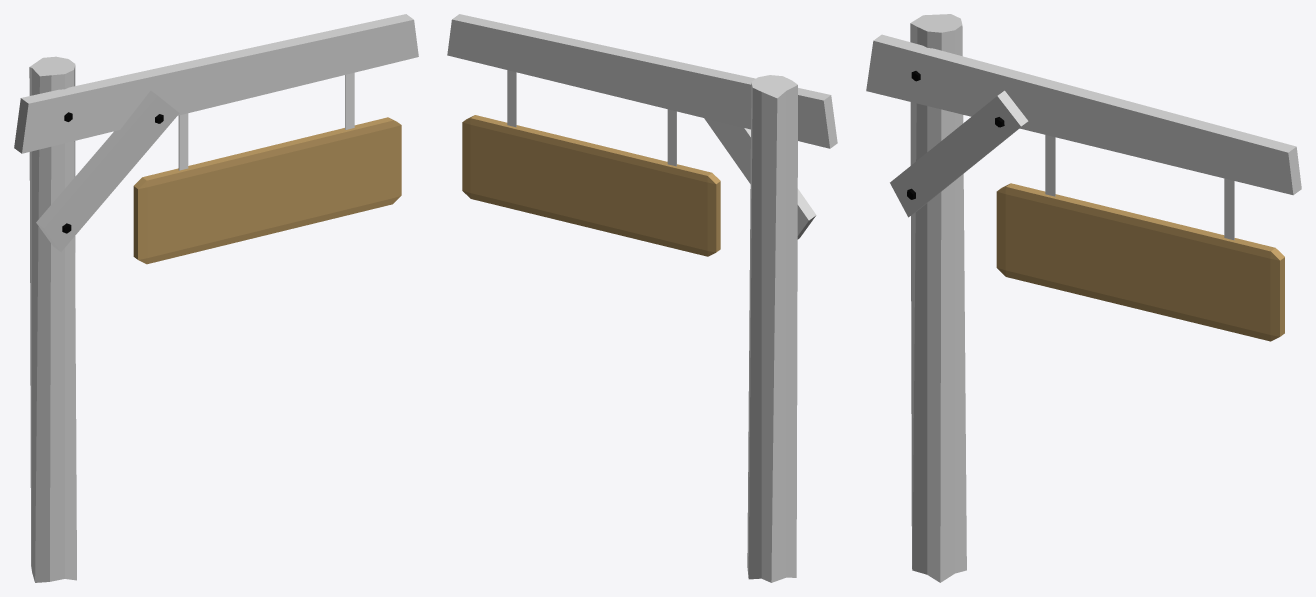
The model's file is Projeto.glb.
3 views of the same model, side by side, from view 1: azimuth 30°, elevation 25°; view 2: azimuth 150°, elevation 25°; view 3: azimuth 330°, elevation 25° (orthographic). The views are drawn at different scales.
Parts seen in each view (by area): view 1: Base, Placa, Corrente, Corrente.001; view 2: Base, Placa, Corrente, Corrente.001; view 3: Base, Placa, Corrente, Corrente.001.
Boxes of the visible parts, bbox=[...] form: Base: bbox=[14, 14, 418, 582]; Placa: bbox=[133, 117, 401, 264]; Corrente: bbox=[178, 113, 188, 170]; Corrente.001: bbox=[345, 72, 354, 129]; Base: bbox=[447, 14, 837, 582]; Placa: bbox=[462, 115, 720, 256]; Corrente: bbox=[667, 109, 676, 166]; Corrente.001: bbox=[507, 70, 516, 127]; Base: bbox=[866, 14, 1301, 582]; Placa: bbox=[996, 183, 1284, 341]; Corrente: bbox=[1045, 135, 1055, 196]; Corrente.001: bbox=[1224, 178, 1234, 240].
Size of the model in its own units: 1.24 by 1.52 by 0.2051.
